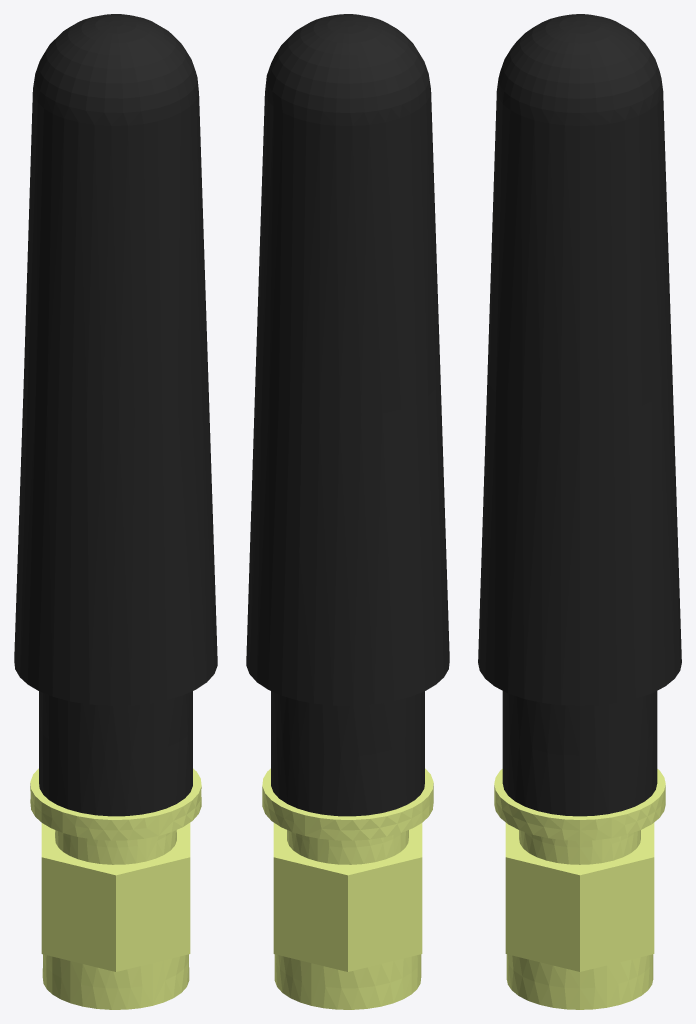
The model's file is Antenna.dae.
The picture shows the model from 3 angles, left to right: view 1: azimuth 30°, elevation 25°; view 2: azimuth 150°, elevation 25°; view 3: azimuth 270°, elevation 25°; orthographic projection.
Visible parts, largest first — view 1: Body1.001; view 2: Body1.001; view 3: Body1.001.
Boxes of the visible parts, box(x1,y1,x2,y2) form: Body1.001: box(14, 14, 217, 1009); Body1.001: box(246, 14, 449, 1009); Body1.001: box(478, 14, 681, 1009).
Size of the model in its own units: 0.0107 by 0.0107 by 0.0553.
